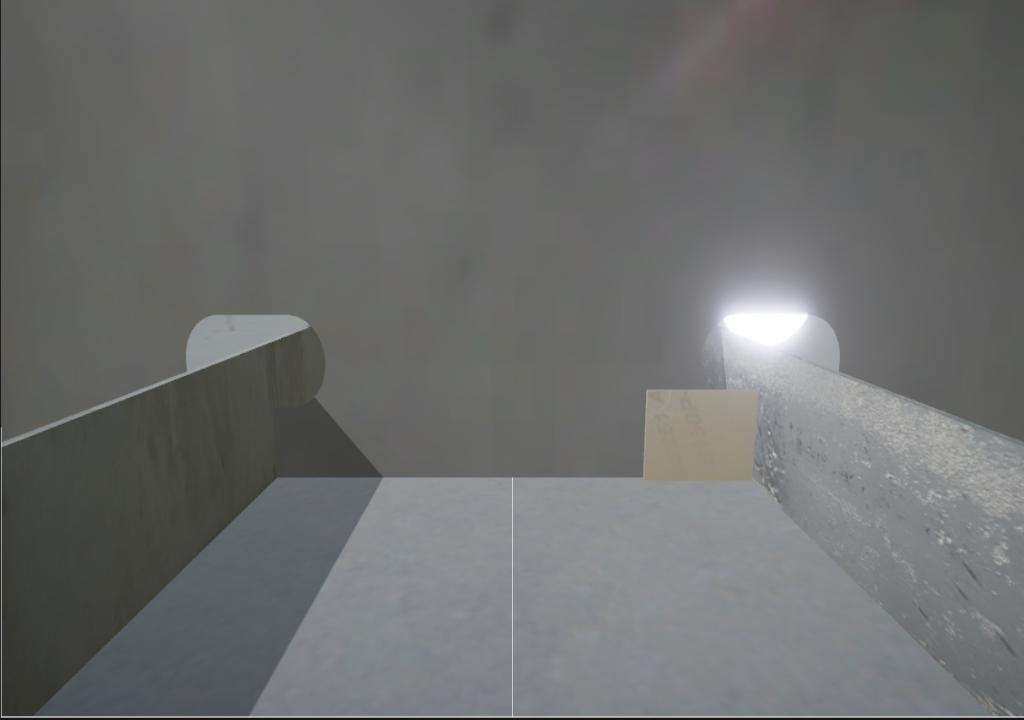fillet_yong_jeop_jang: (275, 469, 644, 488)
longi_yong_jeop_jang: (265, 398, 288, 481)
plate_CP01: (644, 388, 758, 480)
